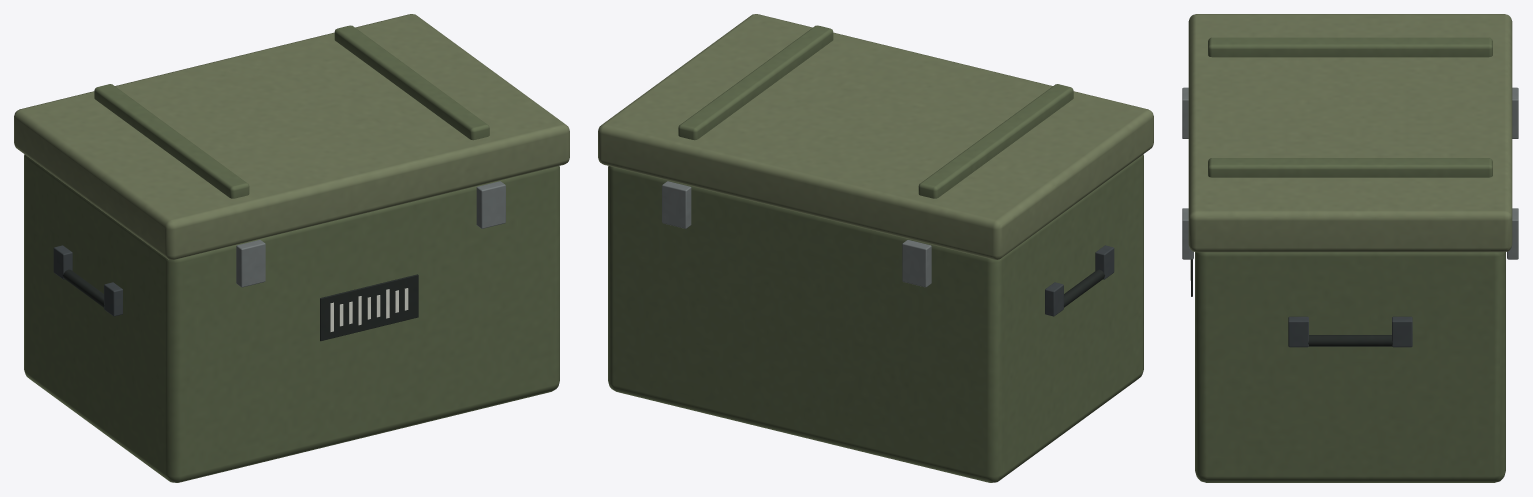
Rendered from supply-crate.glb.
3 views of the same model, side by side, from view 1: azimuth 30°, elevation 25°; view 2: azimuth 150°, elevation 25°; view 3: azimuth 270°, elevation 25° (orthographic). The views are drawn at different scales.
Visible parts, largest first — view 1: supply-crate__body; view 2: supply-crate__body; view 3: supply-crate__body.
Boxes of the visible parts, x1,y1,x2,y2 form: supply-crate__body: [14, 14, 569, 482]; supply-crate__body: [598, 14, 1153, 482]; supply-crate__body: [1182, 14, 1518, 482].
Size of the model in its own units: 0.764 by 0.4895 by 0.52.
Materials: 6 (6 with a texture image).
